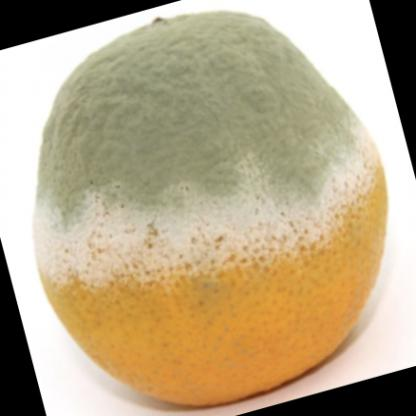rotten_orange: (29, 6, 395, 410)
